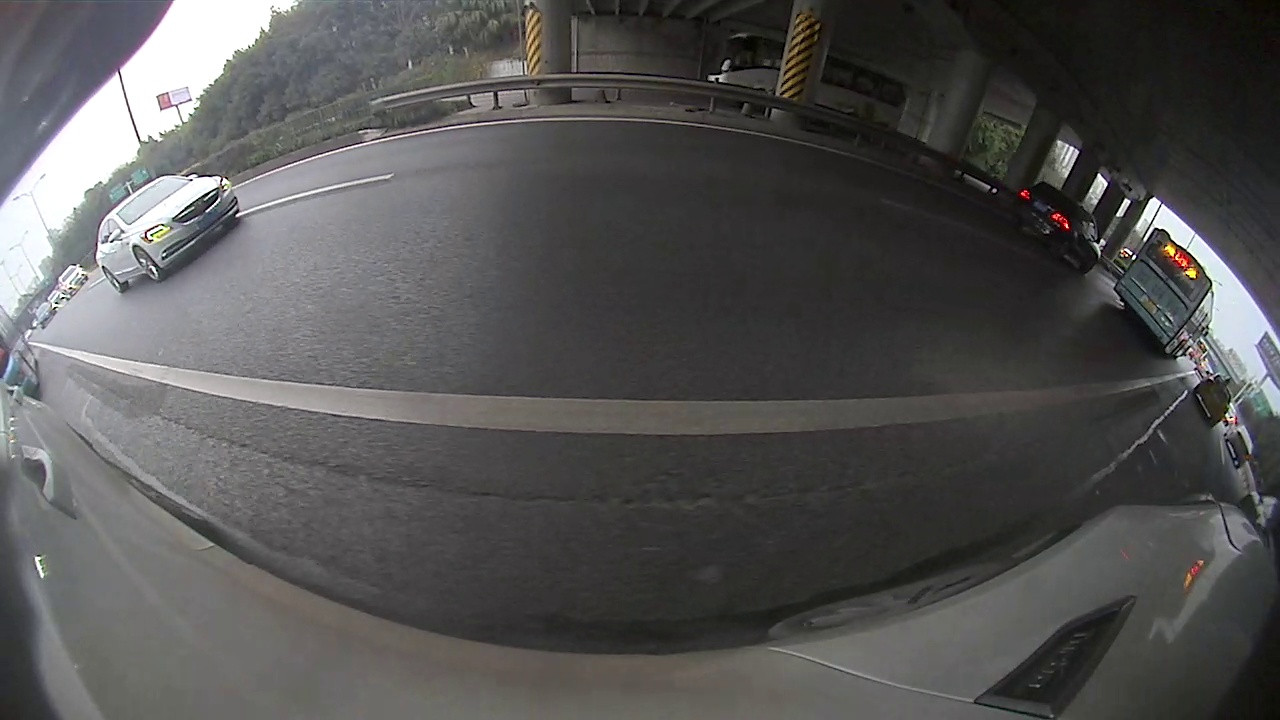bus: (1115, 228, 1214, 359)
car: (97, 175, 237, 293), (1017, 182, 1097, 271), (1193, 372, 1232, 426), (1223, 426, 1254, 466), (58, 264, 86, 294)
front: (132, 248, 165, 283)
rear: (102, 267, 124, 295)
truck: (704, 30, 908, 133)
